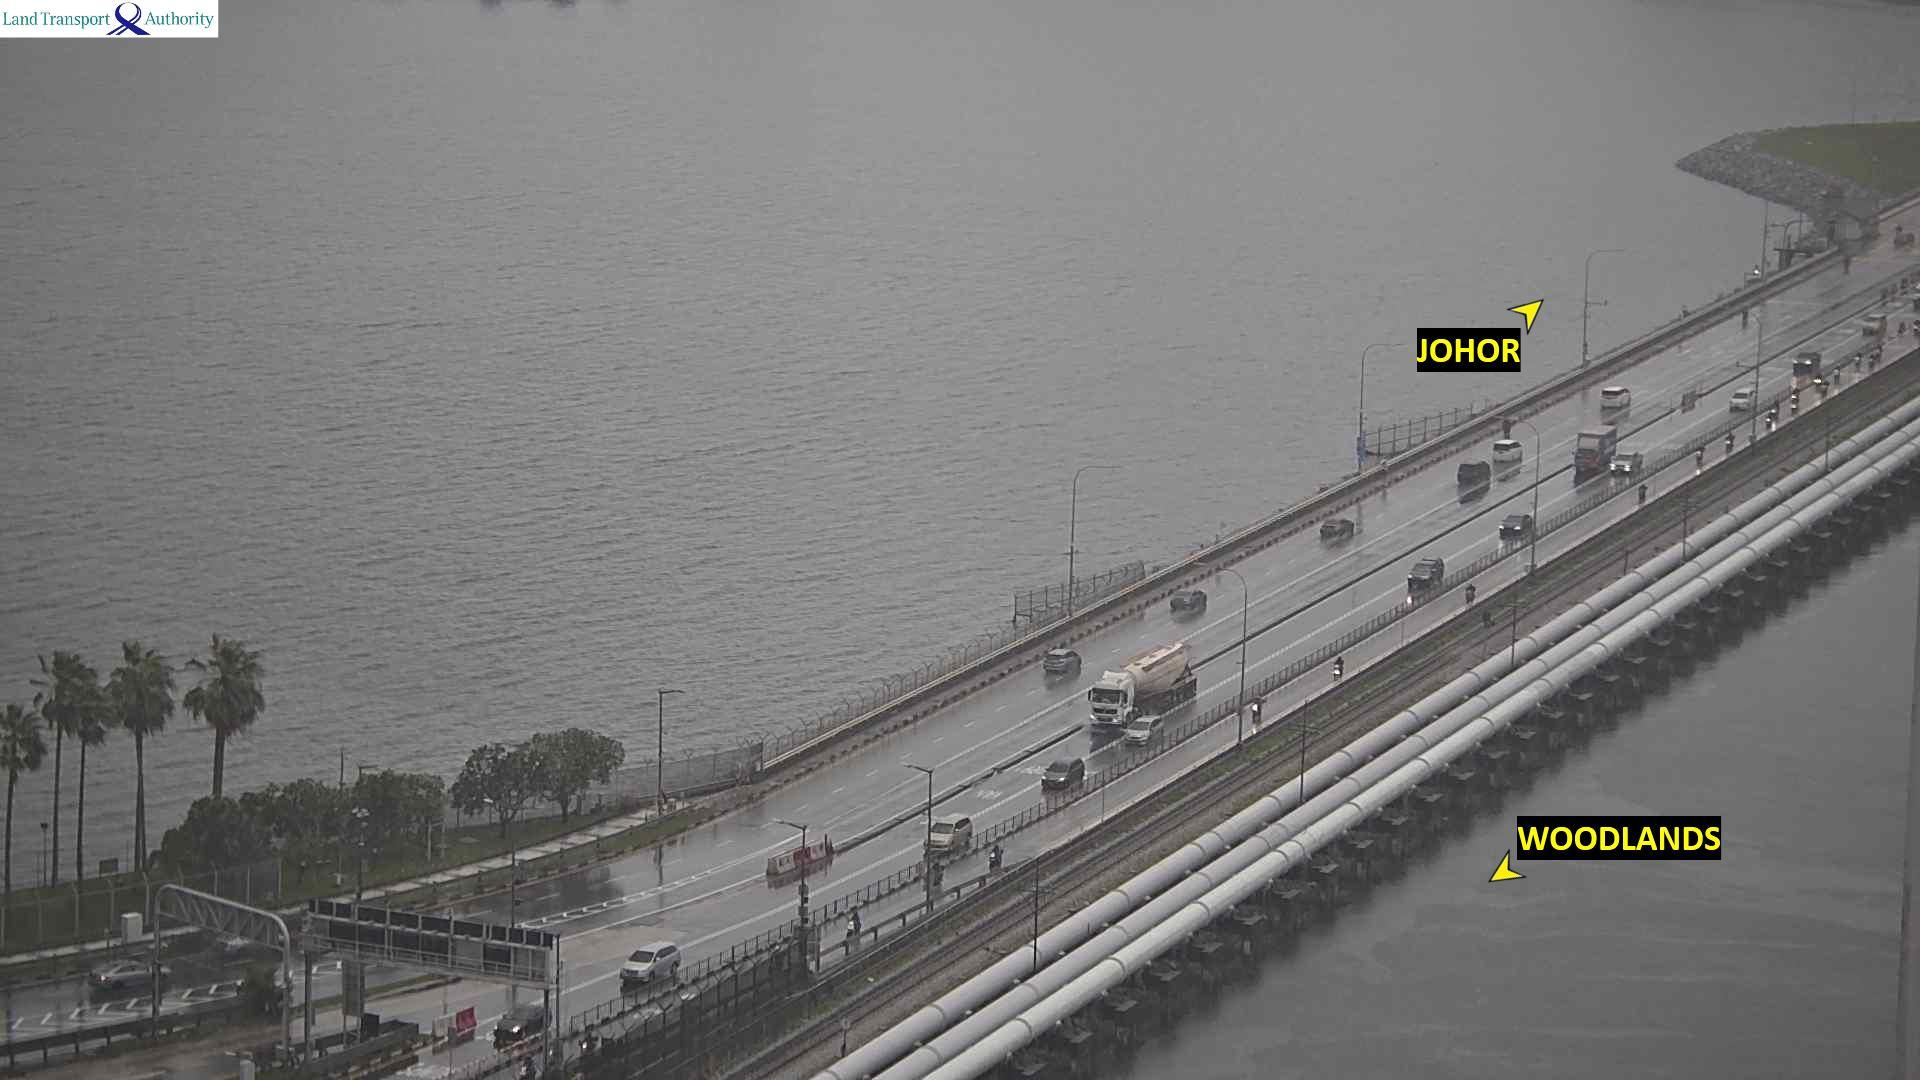vehicle-causeway-johor: (1045, 649, 1083, 673), (1322, 518, 1363, 540), (1170, 592, 1207, 611), (1458, 463, 1489, 482), (1599, 390, 1632, 407), (1488, 442, 1522, 457), (1740, 310, 1751, 326)
vehicle-causeway-singapore: (1088, 660, 1196, 723), (621, 942, 682, 983), (1574, 425, 1615, 470), (496, 1006, 549, 1040), (926, 819, 976, 852), (1042, 758, 1085, 789), (1409, 557, 1442, 588), (1125, 721, 1169, 744), (1608, 452, 1641, 476), (1498, 513, 1533, 532), (1793, 353, 1819, 375), (1862, 315, 1887, 335), (1732, 390, 1754, 410), (846, 910, 861, 934), (989, 842, 1003, 867), (1765, 400, 1777, 427), (1331, 656, 1346, 675), (1251, 697, 1263, 717), (1792, 387, 1801, 413), (1636, 484, 1648, 500), (1465, 584, 1474, 604), (1695, 447, 1704, 467), (1725, 432, 1734, 449), (1854, 353, 1860, 368), (1835, 362, 1840, 379), (1822, 382, 1827, 395)
